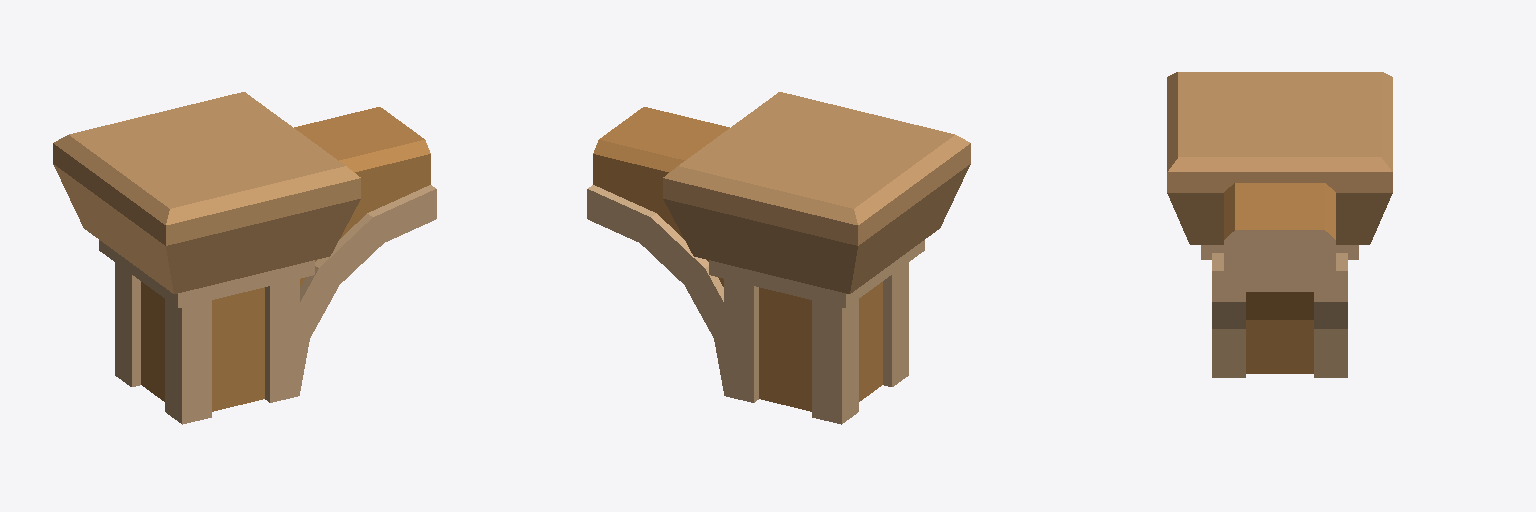
Rendered from Pillar_Large_Arch_Top.obj.
3 renders of one model, left to right at view 1: azimuth 30°, elevation 25°; view 2: azimuth 150°, elevation 25°; view 3: azimuth 270°, elevation 25°, orthographic.
Parts seen in each view (by area): view 1: object1, object2; view 2: object1, object2; view 3: object1, object2.
Part boxes in pixels (bbox=[...]): object1: bbox=[53, 92, 360, 307]; object2: bbox=[115, 107, 436, 424]; object1: bbox=[663, 92, 970, 307]; object2: bbox=[587, 107, 908, 424]; object1: bbox=[1167, 72, 1392, 259]; object2: bbox=[1212, 183, 1347, 377].
Bounding box in the file's own units: 1.5 × 1.15 × 1.